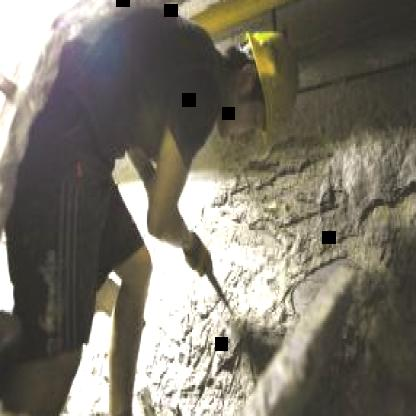helmet: (211, 22, 297, 140)
